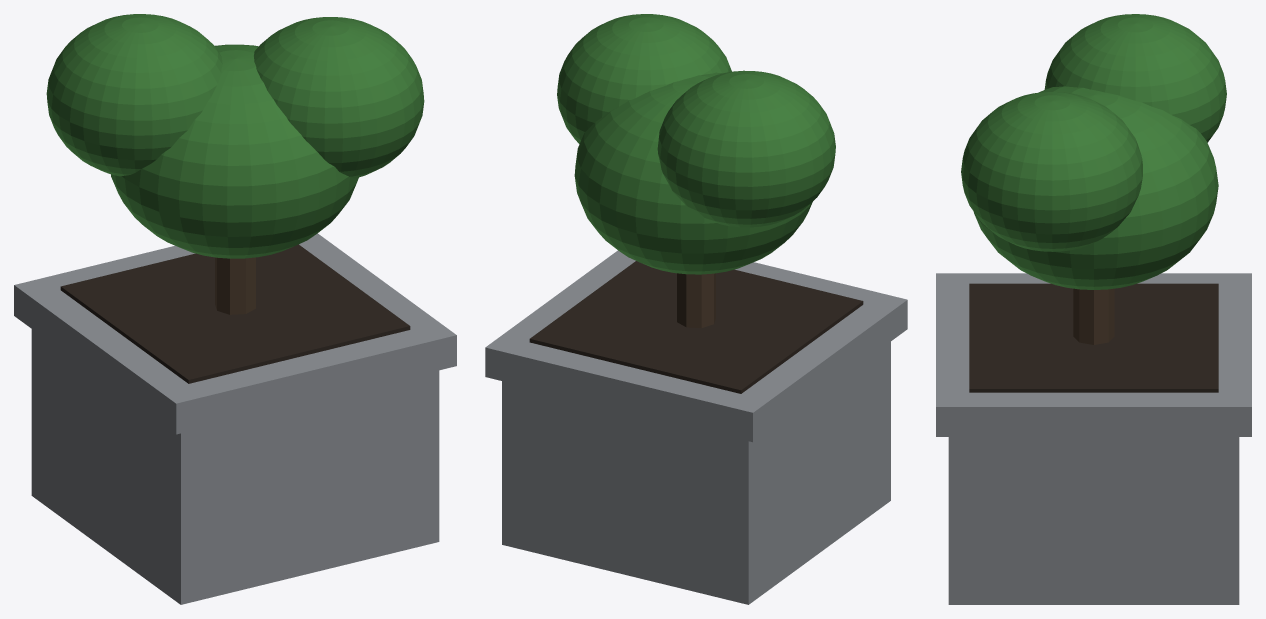
The model's file is planter.glb.
3 views of the same model, side by side, from view 1: azimuth 30°, elevation 25°; view 2: azimuth 150°, elevation 25°; view 3: azimuth 270°, elevation 25° (orthographic). The views are drawn at different scales.
Parts seen in each view (by area): view 1: pot, rim, bush1, soil, bush2, bush3, trunk; view 2: pot, rim, soil, bush2, bush1, bush3, trunk; view 3: pot, soil, rim, bush3, bush1, bush2, trunk.
Part boxes in pixels (box(x1,y1,x2,y2)): pot: box(31, 329, 439, 604); rim: box(14, 233, 456, 434); bush1: box(111, 44, 358, 258); soil: box(60, 244, 410, 383); bush2: box(46, 14, 222, 176); bush3: box(254, 17, 424, 178); trunk: box(215, 257, 255, 314); pot: box(502, 341, 890, 604); rim: box(485, 250, 907, 442); soil: box(529, 261, 863, 393); bush2: box(657, 70, 835, 227); bush1: box(574, 72, 812, 274); bush3: box(557, 14, 731, 143); trunk: box(677, 273, 715, 328); pot: box(948, 437, 1239, 604); soil: box(969, 283, 1218, 392); rim: box(936, 273, 1251, 436); bush3: box(961, 91, 1142, 251); bush1: box(974, 86, 1218, 289); bush2: box(1044, 14, 1226, 142); trunk: box(1073, 288, 1114, 344).
Size of the model in its own units: 0.84 by 1.29 by 0.76.
